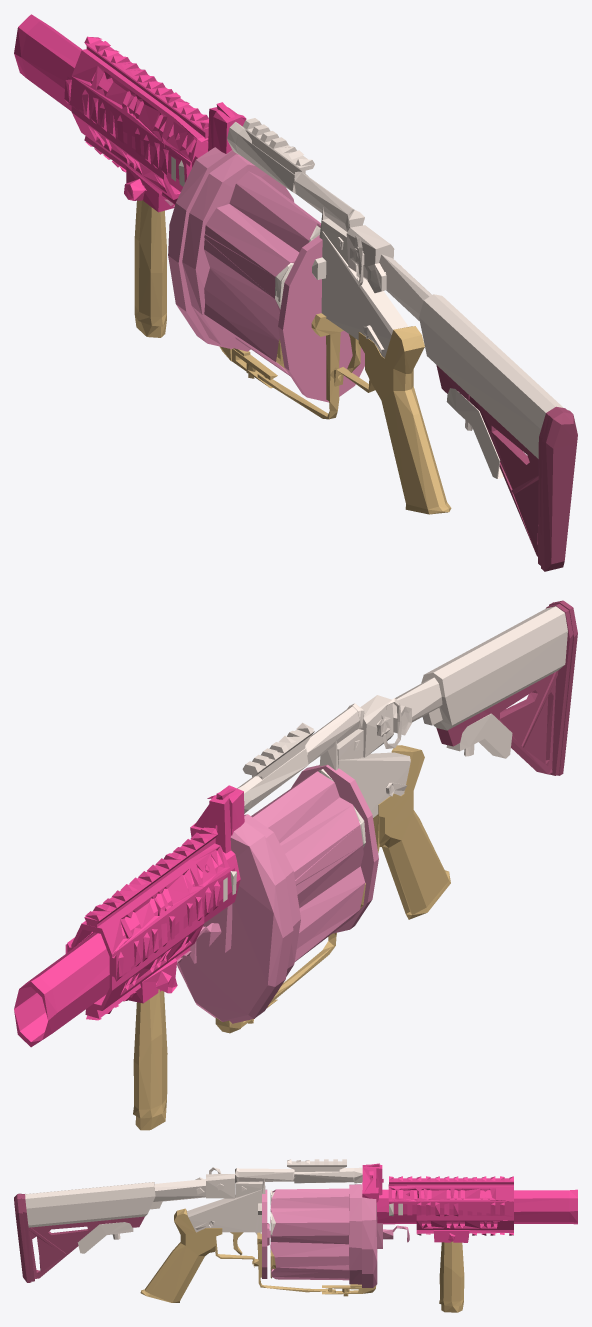
Rendered from Launcher_M32.obj.
3 renders of one model, top to bottom at view 1: azimuth 30°, elevation 25°; view 2: azimuth 150°, elevation 25°; view 3: azimuth 270°, elevation 25°, orthographic. The views are drawn at different scales.
Parts seen in each view (by area): view 1: Body, Panel, Accent, Hardware, Grip; view 2: Body, Accent, Panel, Hardware, Grip; view 3: Panel, Body, Accent, Hardware, Grip.
Boxes of the visible parts, <box> form: Body: <box>164,147,364,402</box>; Panel: <box>171,118,563,478</box>; Accent: <box>14,14,246,212</box>; Hardware: <box>134,199,451,514</box>; Grip: <box>436,365,577,571</box>; Body: <box>177,764,378,1023</box>; Accent: <box>14,785,244,1047</box>; Panel: <box>223,606,567,901</box>; Hardware: <box>133,745,450,1130</box>; Grip: <box>436,600,577,775</box>; Panel: <box>25,1159,402,1253</box>; Body: <box>262,1182,430,1287</box>; Accent: <box>362,1163,577,1242</box>; Hardware: <box>140,1208,464,1312</box>; Grip: <box>14,1193,144,1282</box>.
Size of the model in its own units: 0.4342 by 1.03 by 3.5.
